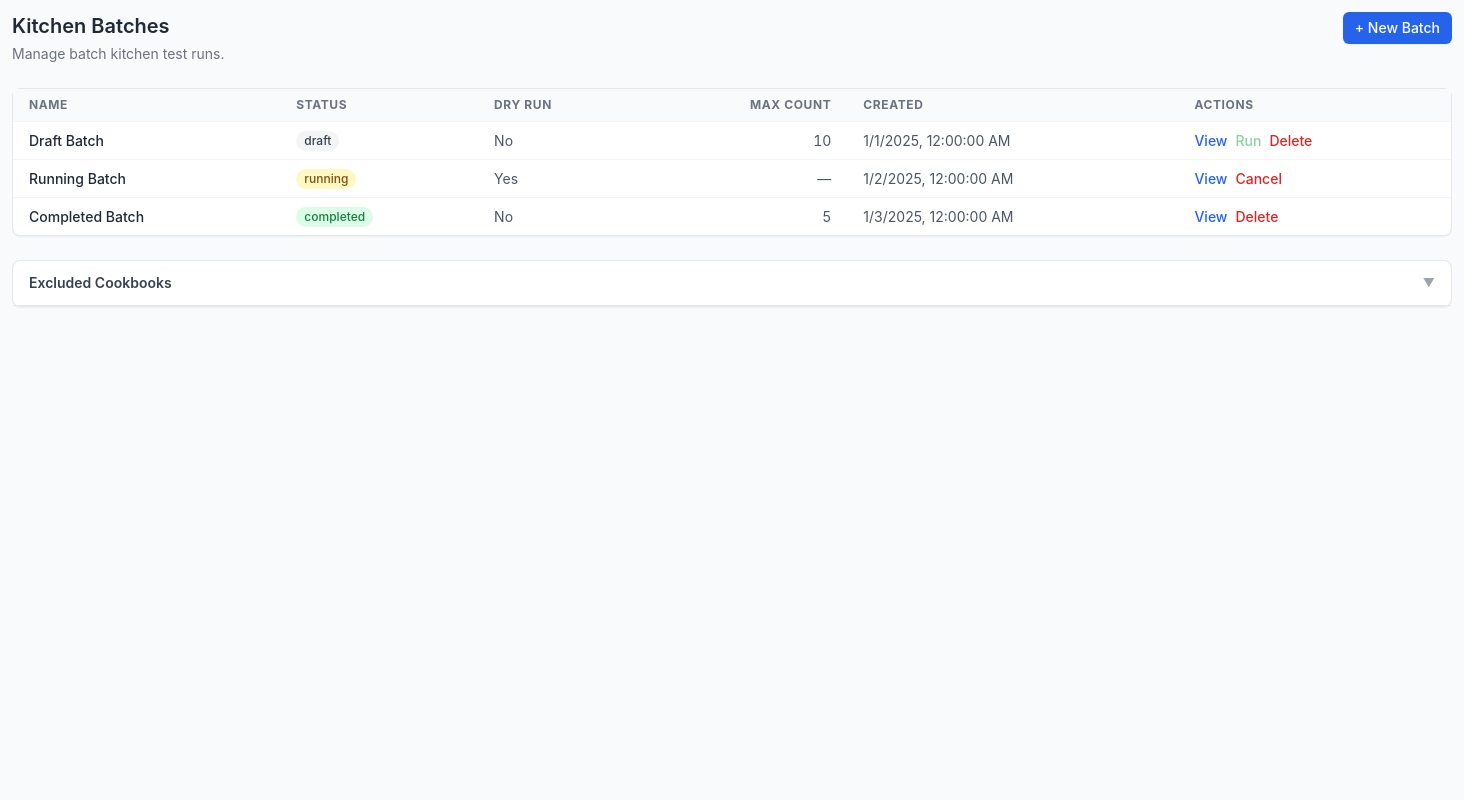
Test case: KitchenBatchesPage › detail view shows per-instance results grouped by cookbook, expandable
Expected: the text "Running Batch" is shown, [13,160,280,198]
Click the button "View" in the row of "Running Batch": point(1211, 178) [1194,168,1228,188]
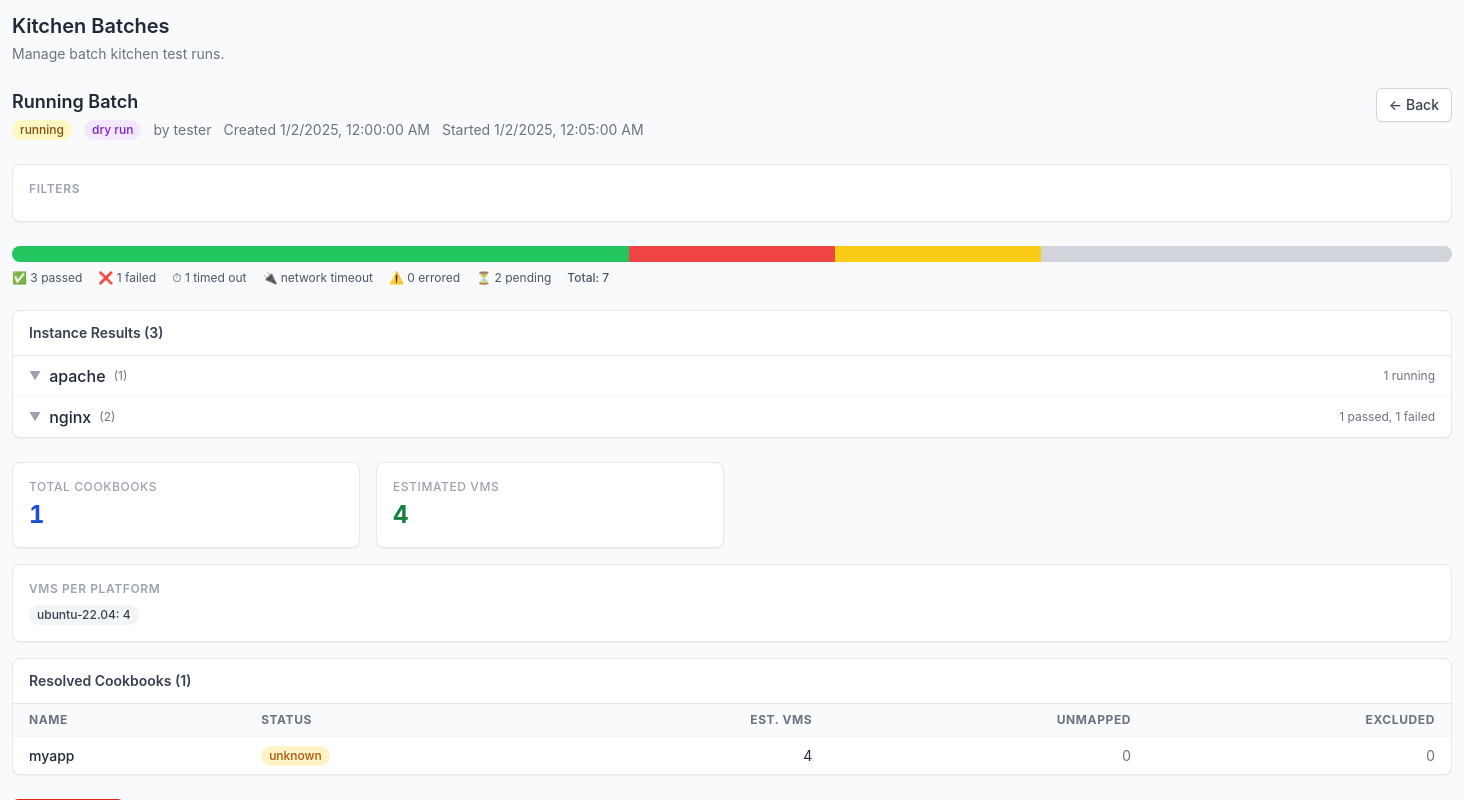
Expected: the heading "Instance Results (3)" is shown, [29,324,164,341]
Expected: the text "apache" is shown, [49,364,106,388]
Expected: the text "nginx" is shown
# Expand the nginx group → its instance rows appear
Click the text "nginx": point(70, 417) [49,405,91,429]
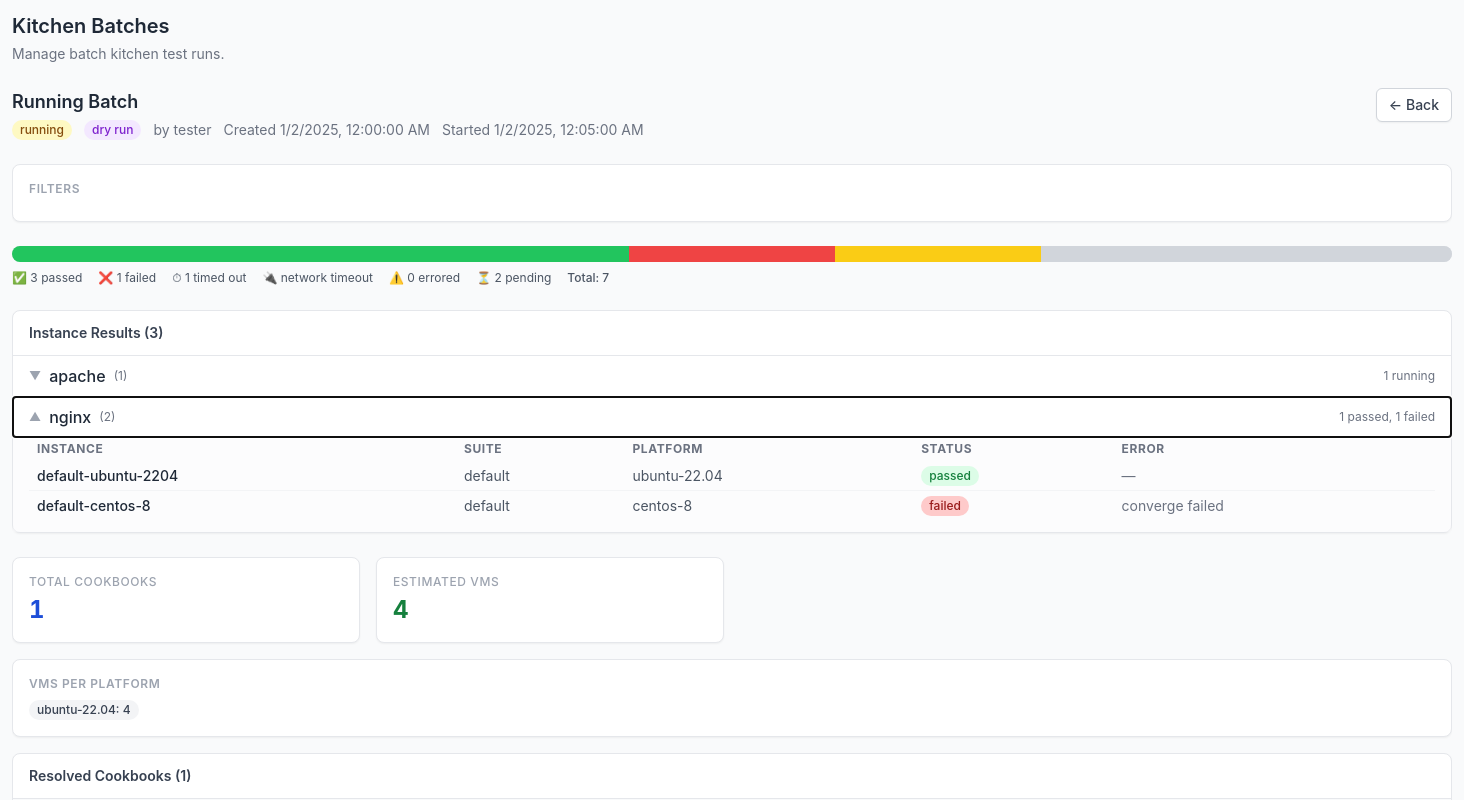
Expected: the text "default-centos-8" is shown, [29,490,456,520]
Expected: the text "converge failed" is shown, [1114,490,1435,520]
Expected: the text "passed" is shown, [921,466,979,486]
